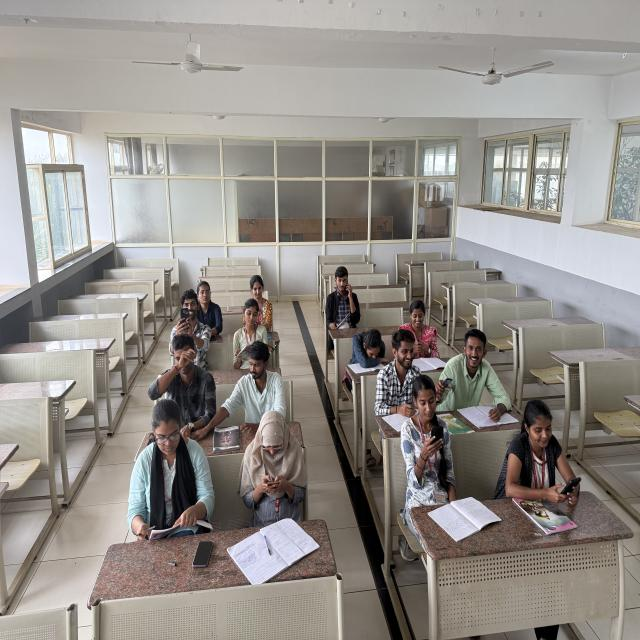Reading: (150, 402, 218, 542), (224, 301, 277, 365)
Sleeping: (350, 310, 390, 362)
Using Phone: (236, 403, 312, 525), (496, 394, 581, 500), (436, 323, 513, 406), (398, 372, 454, 472), (144, 289, 217, 345), (322, 257, 365, 323)
